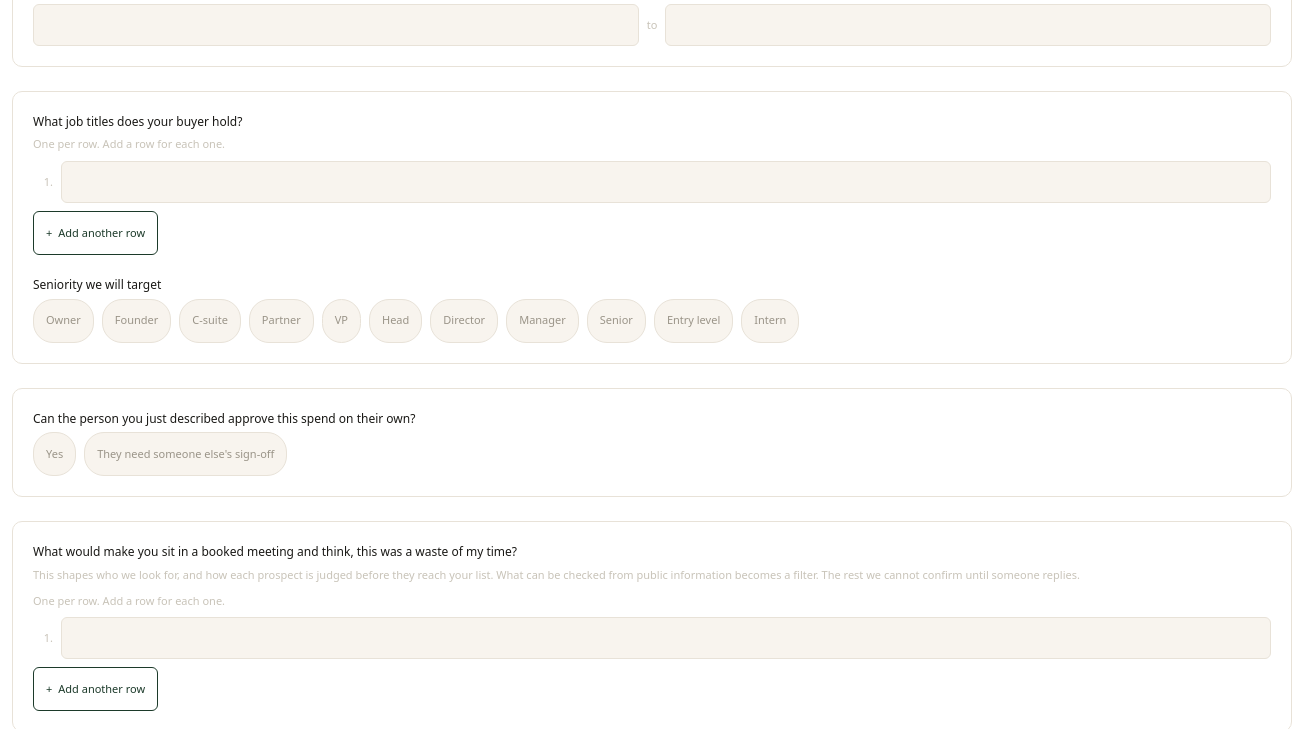
the sign-off follow-up appears only when someone else has to sign off › appears when the client says someone else has to sign off
(page scrolled)
Click the button "They need someone else's sign-off" at (186, 454), box [84,432,288,476]
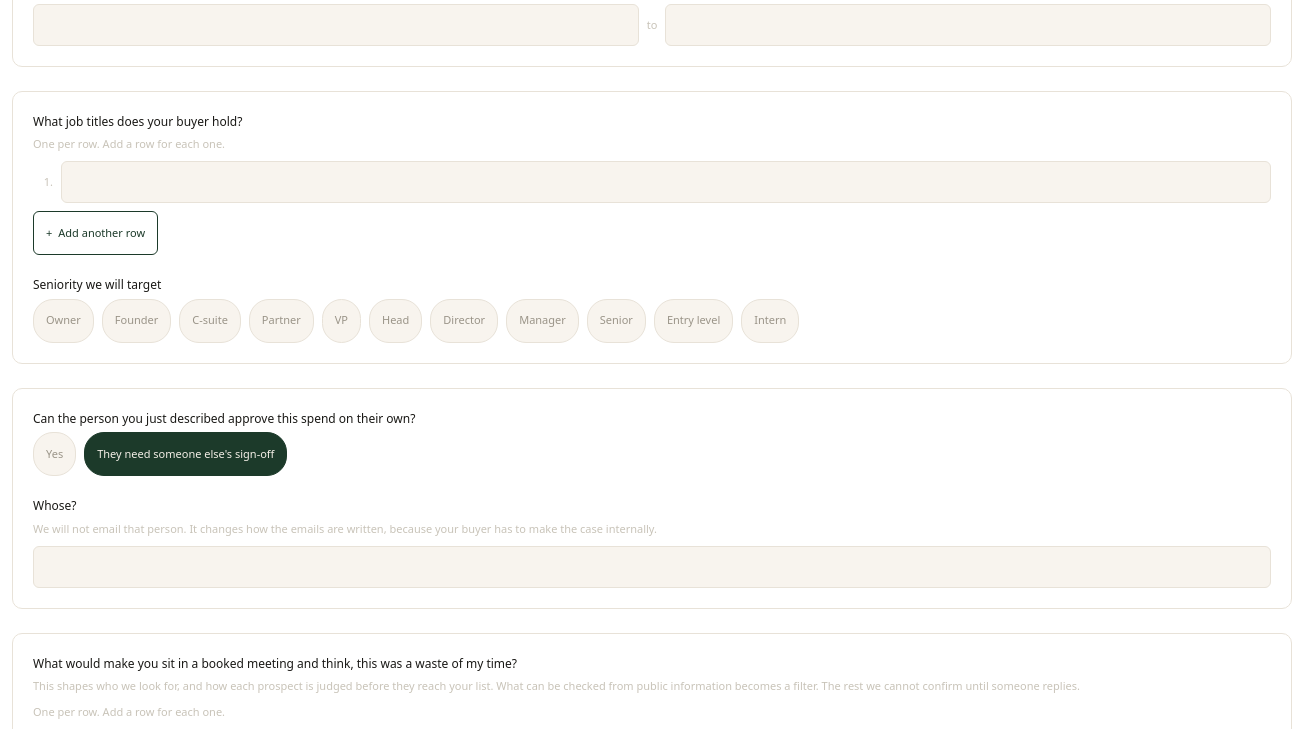
Result: the field named "Whose?" is shown at [33,546,1271,588]
